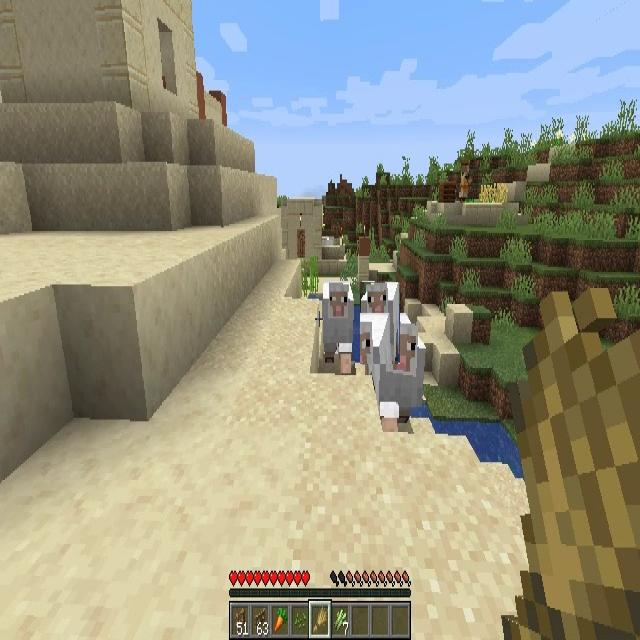sheep: (371, 314, 423, 420), (360, 282, 400, 364), (322, 282, 353, 376)
